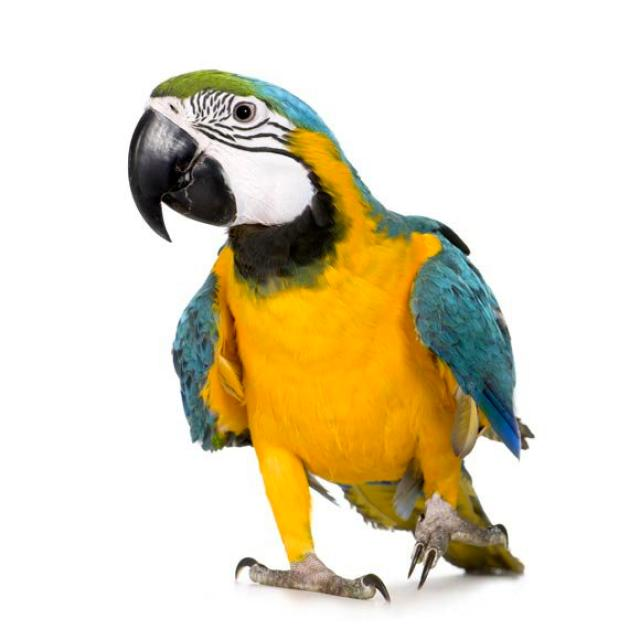parrot: (128, 71, 533, 598)
